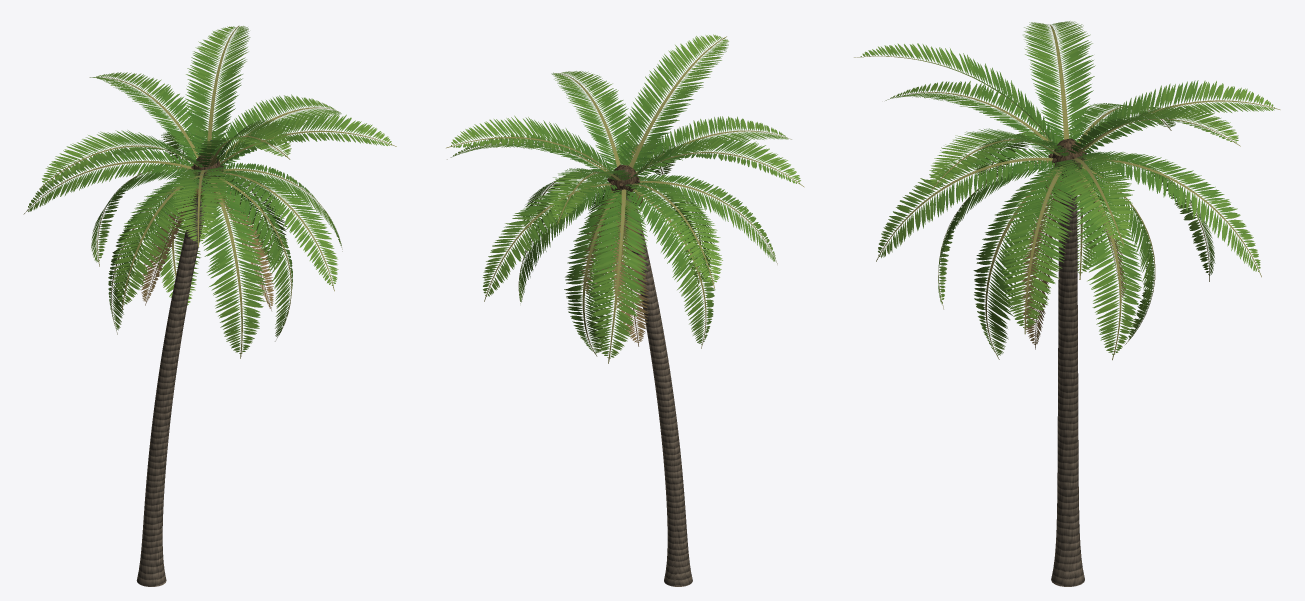
File: coconut-palm.glb
3 renders of one model, left to right at view 1: azimuth 30°, elevation 25°; view 2: azimuth 150°, elevation 25°; view 3: azimuth 270°, elevation 25°, orthographic. The views are drawn at different scales.
Visible parts, largest first — view 1: Coconut_Palm; view 2: Coconut_Palm; view 3: Coconut_Palm.
Part boxes in pixels (left/top/right/bottom): Coconut_Palm: left=23, top=25, right=396, bottom=586; Coconut_Palm: left=446, top=34, right=804, bottom=586; Coconut_Palm: left=854, top=21, right=1280, bottom=586.
Size of the model in its own units: 6.93 by 9.34 by 6.57.
6 materials, 5 textured.
